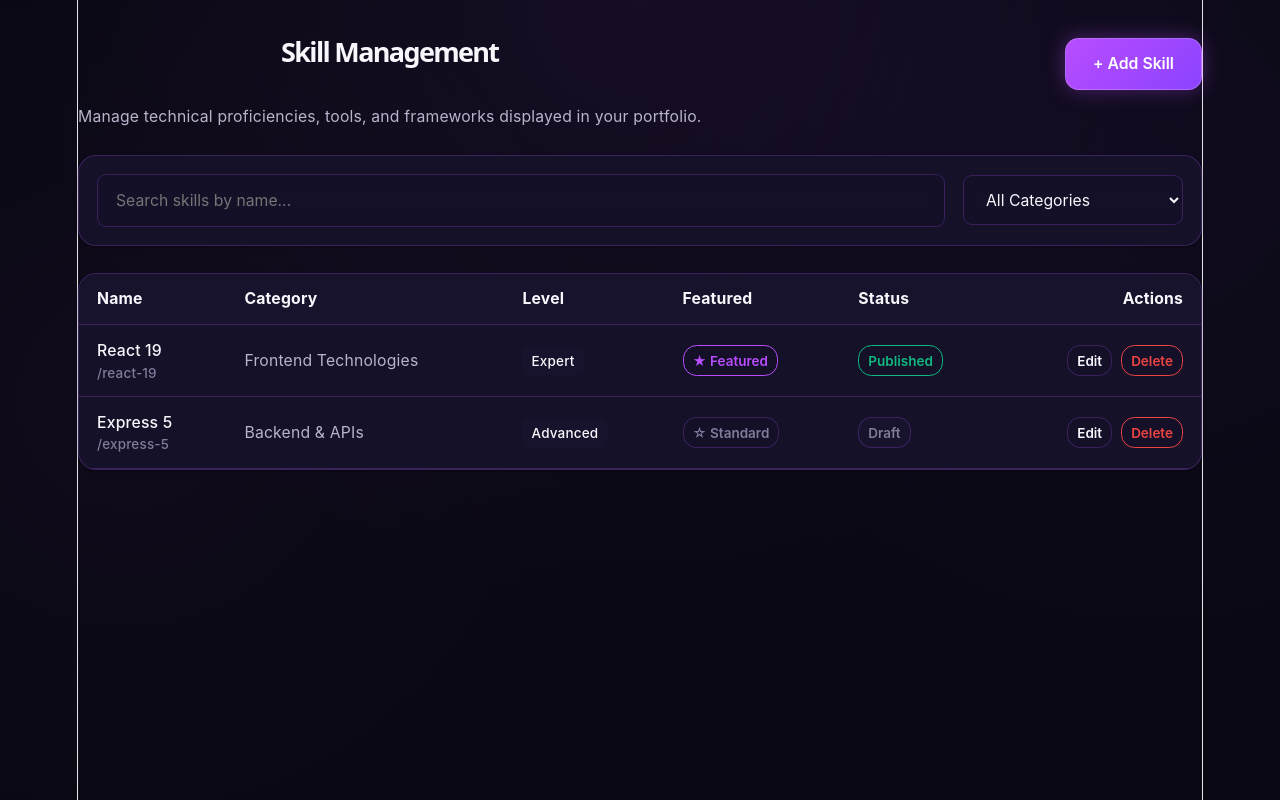
SkillManager Component (src/pages/admin/SkillManager.jsx) › 3. Confirms and deletes a skill
Expected: the text "React 19" is shown, [97, 341, 162, 360]
Click the button "Delete" in the row of "React 19". click: (1152, 361)
box: [1121, 345, 1183, 376]
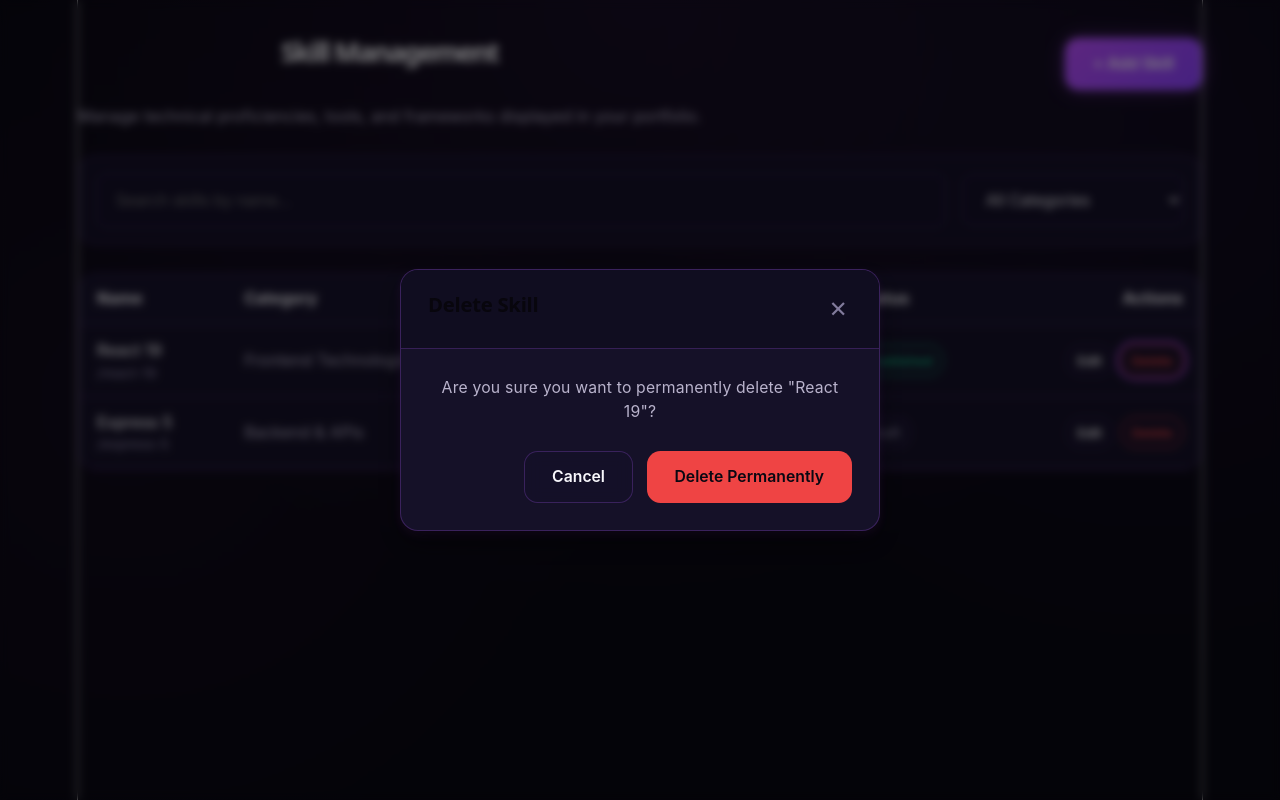
Now the text "Are you sure you want to permanently delete \"React 19\"?" is shown, box [428, 376, 852, 424]
Click the button "Delete Permanently". click: (749, 477)
box: [646, 451, 852, 503]
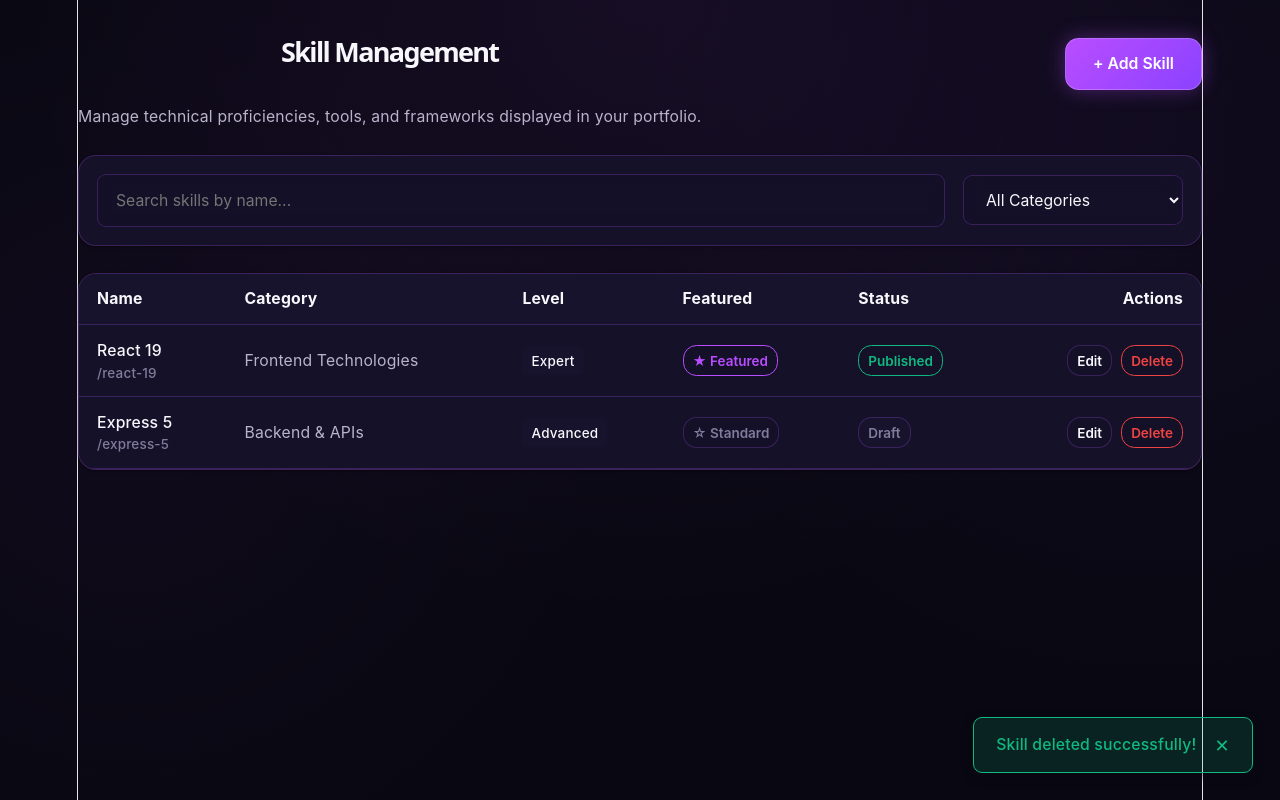
Now the text "Skill deleted successfully!" is shown, box [996, 733, 1196, 757]
